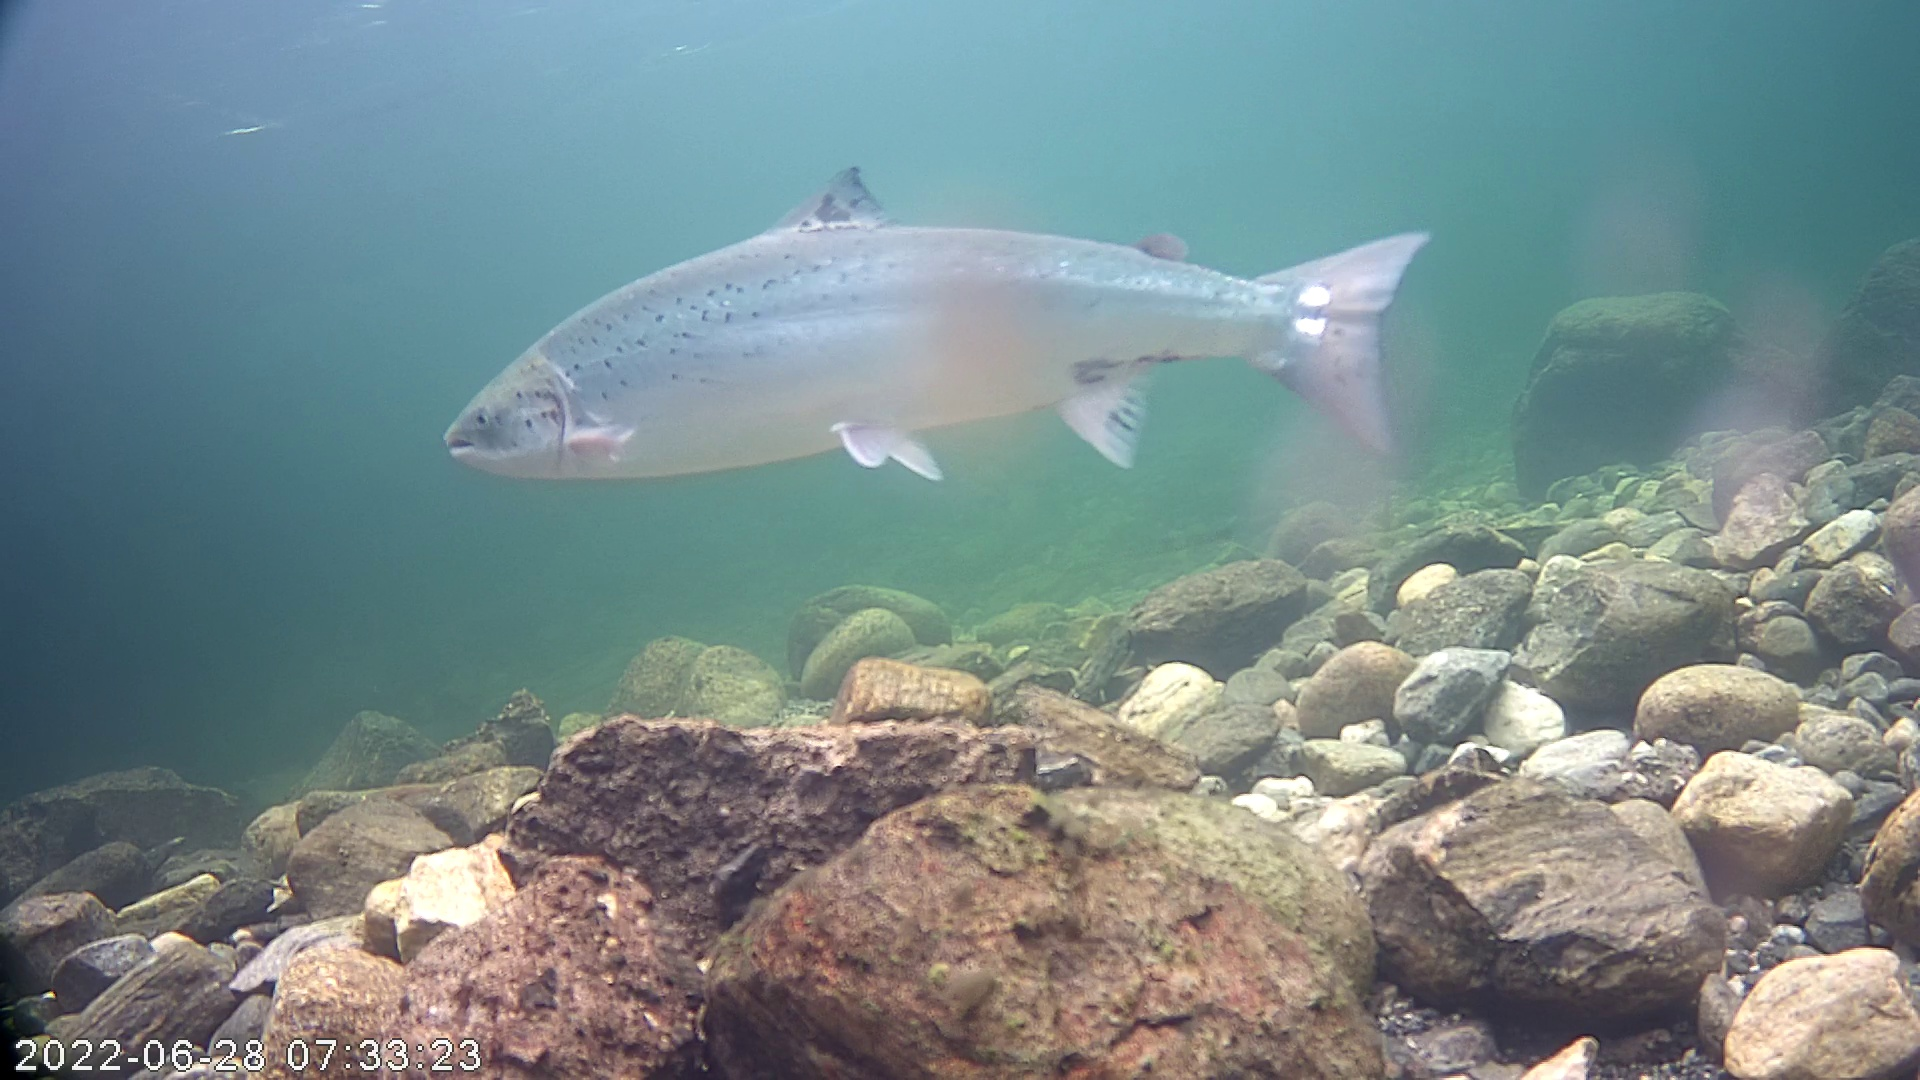salmon: (436, 111, 1455, 524)
